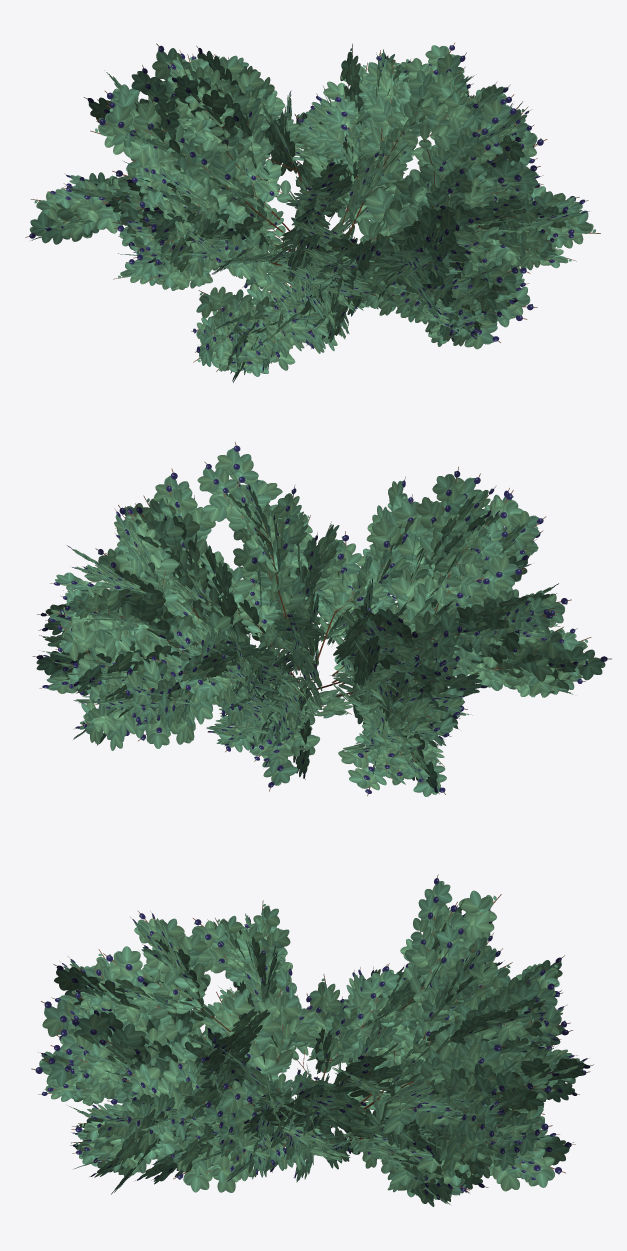
Rendered from bilberry_low_v02_LOD1.fbx.
3 renders of one model, top to bottom at view 1: azimuth 30°, elevation 25°; view 2: azimuth 150°, elevation 25°; view 3: azimuth 270°, elevation 25°, orthographic. The views are drawn at different scales.
Visible parts, largest first — view 1: bilberry_low_v02_LOD1; view 2: bilberry_low_v02_LOD1; view 3: bilberry_low_v02_LOD1.
Boxes of the visible parts, left/top/right/bottom form: bilberry_low_v02_LOD1: left=25, top=42, right=600, bottom=382; bilberry_low_v02_LOD1: left=32, top=442, right=611, bottom=796; bilberry_low_v02_LOD1: left=31, top=874, right=593, bottom=1206.
Size of the model in its own units: 94.52 by 50 by 105.
Materials: 2 (2 with a texture image).
